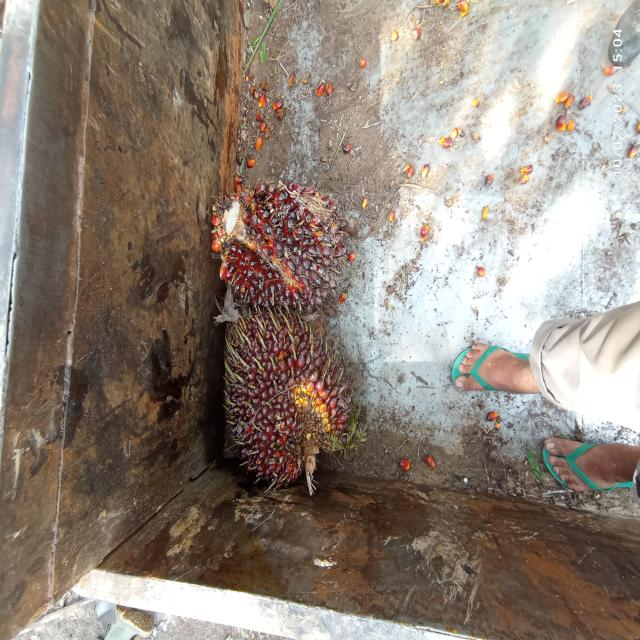fraksi 1: (211, 304, 373, 495), (207, 164, 347, 334)
